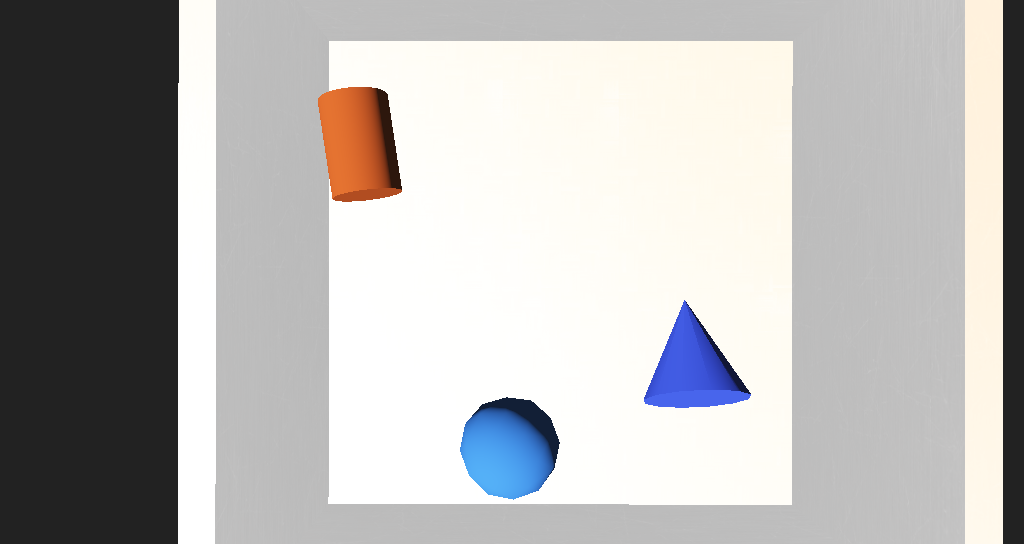cone: (347, 184, 408, 236)
cylinder: (552, 274, 620, 336)
sphere: (438, 327, 505, 370)
